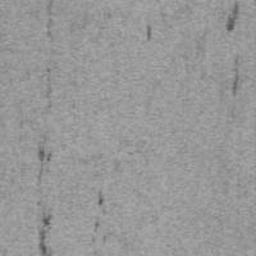Inclusion: (35, 140, 55, 180), (36, 212, 52, 256), (229, 54, 241, 97), (224, 0, 239, 33), (44, 68, 55, 110), (45, 0, 55, 40), (96, 189, 105, 207), (146, 24, 152, 41), (93, 221, 101, 233), (102, 233, 108, 243)
